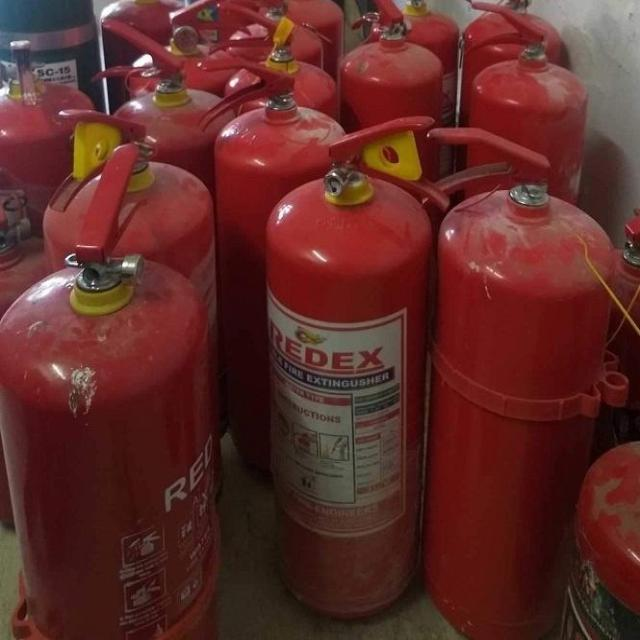fire_extinguisher: (0, 135, 218, 637), (413, 120, 620, 638), (263, 109, 453, 626), (32, 95, 230, 549), (192, 52, 353, 493), (92, 6, 237, 448), (453, 0, 590, 435), (328, 3, 450, 437), (219, 5, 344, 408), (120, 0, 252, 338), (437, 0, 565, 327), (537, 190, 639, 582), (0, 31, 109, 393), (221, 0, 327, 349), (376, 0, 463, 319), (95, 0, 201, 256), (548, 419, 639, 638)
